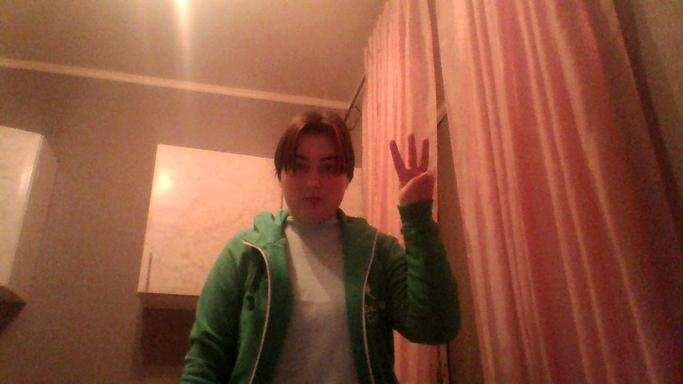three: (389, 131, 439, 212)
